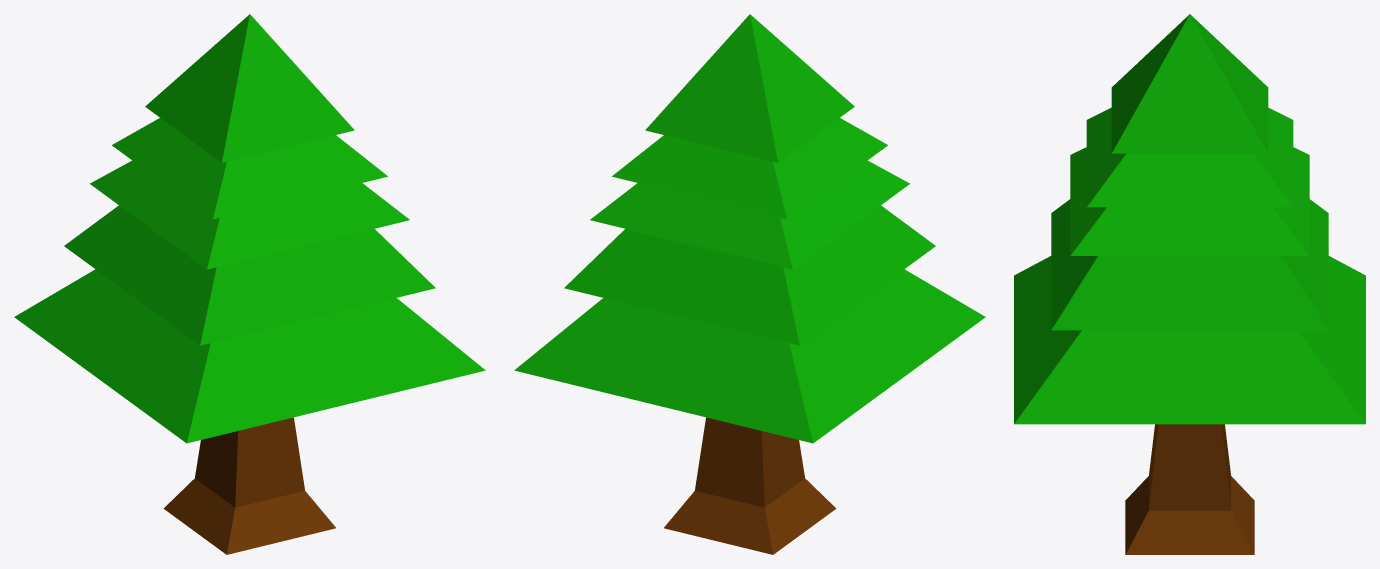
File: Tree2.fbx
3 renders of one model, left to right at view 1: azimuth 30°, elevation 25°; view 2: azimuth 150°, elevation 25°; view 3: azimuth 270°, elevation 25°, orthographic.
Parts seen in each view (by area): view 1: Cube; view 2: Cube; view 3: Cube.
Part boxes in pixels (x1,y1,x2,y2): Cube: [14, 14, 485, 554]; Cube: [514, 14, 985, 554]; Cube: [1014, 14, 1365, 554].
Bounding box in the file's own units: 225 × 362 × 225.
